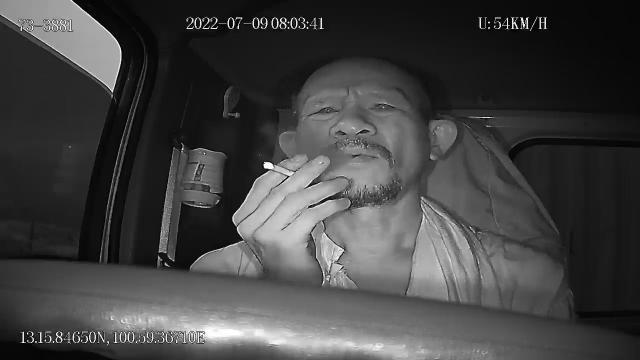SafeDriving: (362, 93, 405, 118)
Smoking: (262, 160, 296, 178)
